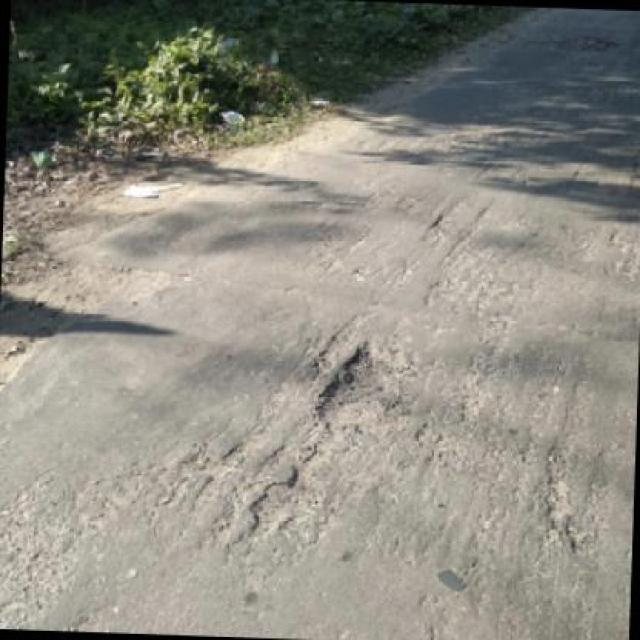pothole: (310, 338, 398, 432), (244, 468, 321, 537)
